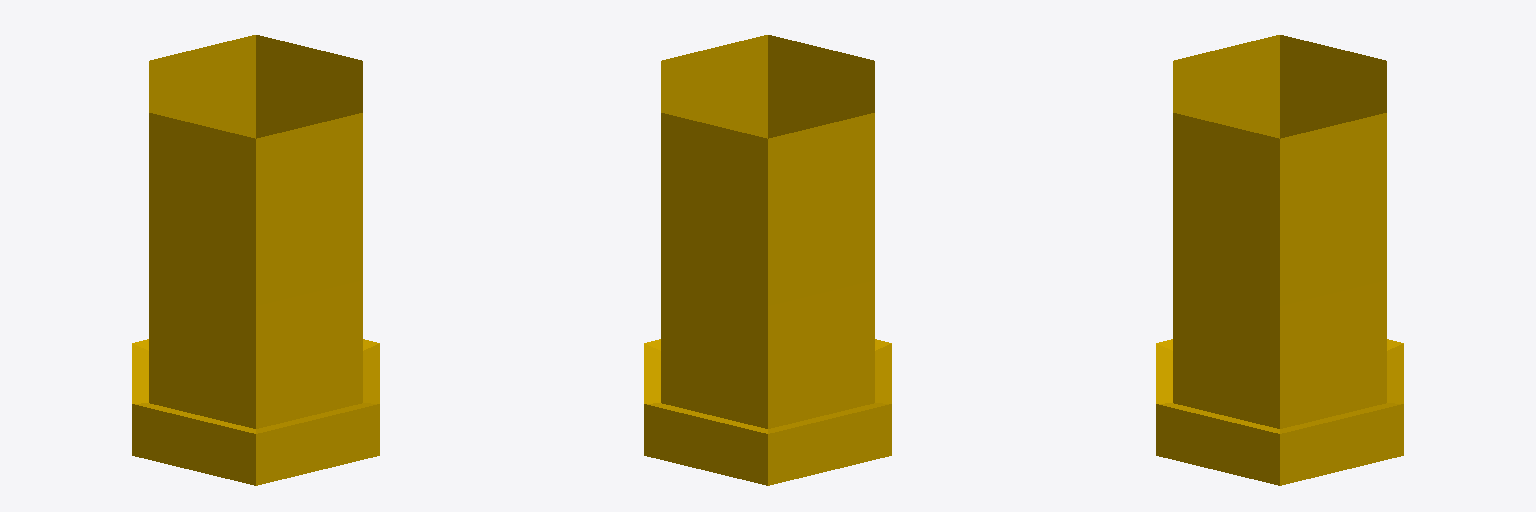
Rendered from BulletCasing.obj.
The picture shows the model from 3 angles: view 1: azimuth 30°, elevation 25°; view 2: azimuth 150°, elevation 25°; view 3: azimuth 270°, elevation 25°; orthographic projection.
Parts seen in each view (by area): view 1: BulletCasing; view 2: BulletCasing; view 3: BulletCasing.
Boxes of the visible parts, <box> form: BulletCasing: <box>132,35,379,485</box>; BulletCasing: <box>644,35,891,485</box>; BulletCasing: <box>1156,35,1403,485</box>.
Size of the model in its own units: 0.2325 by 0.3032 by 0.2014.